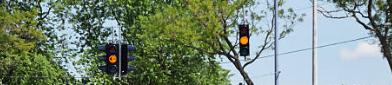yellow_light: (106, 44, 119, 74), (239, 24, 249, 56)
